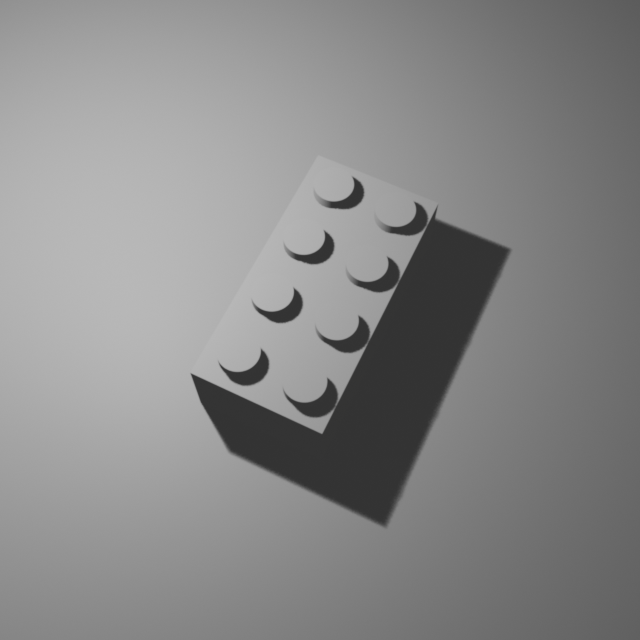lego_2x4: (188, 147, 440, 460)
